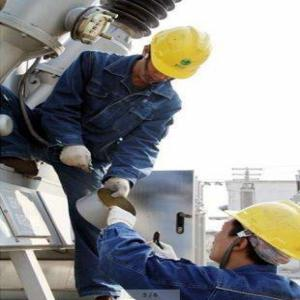yellow: (206, 200, 299, 269), (131, 24, 215, 86)
